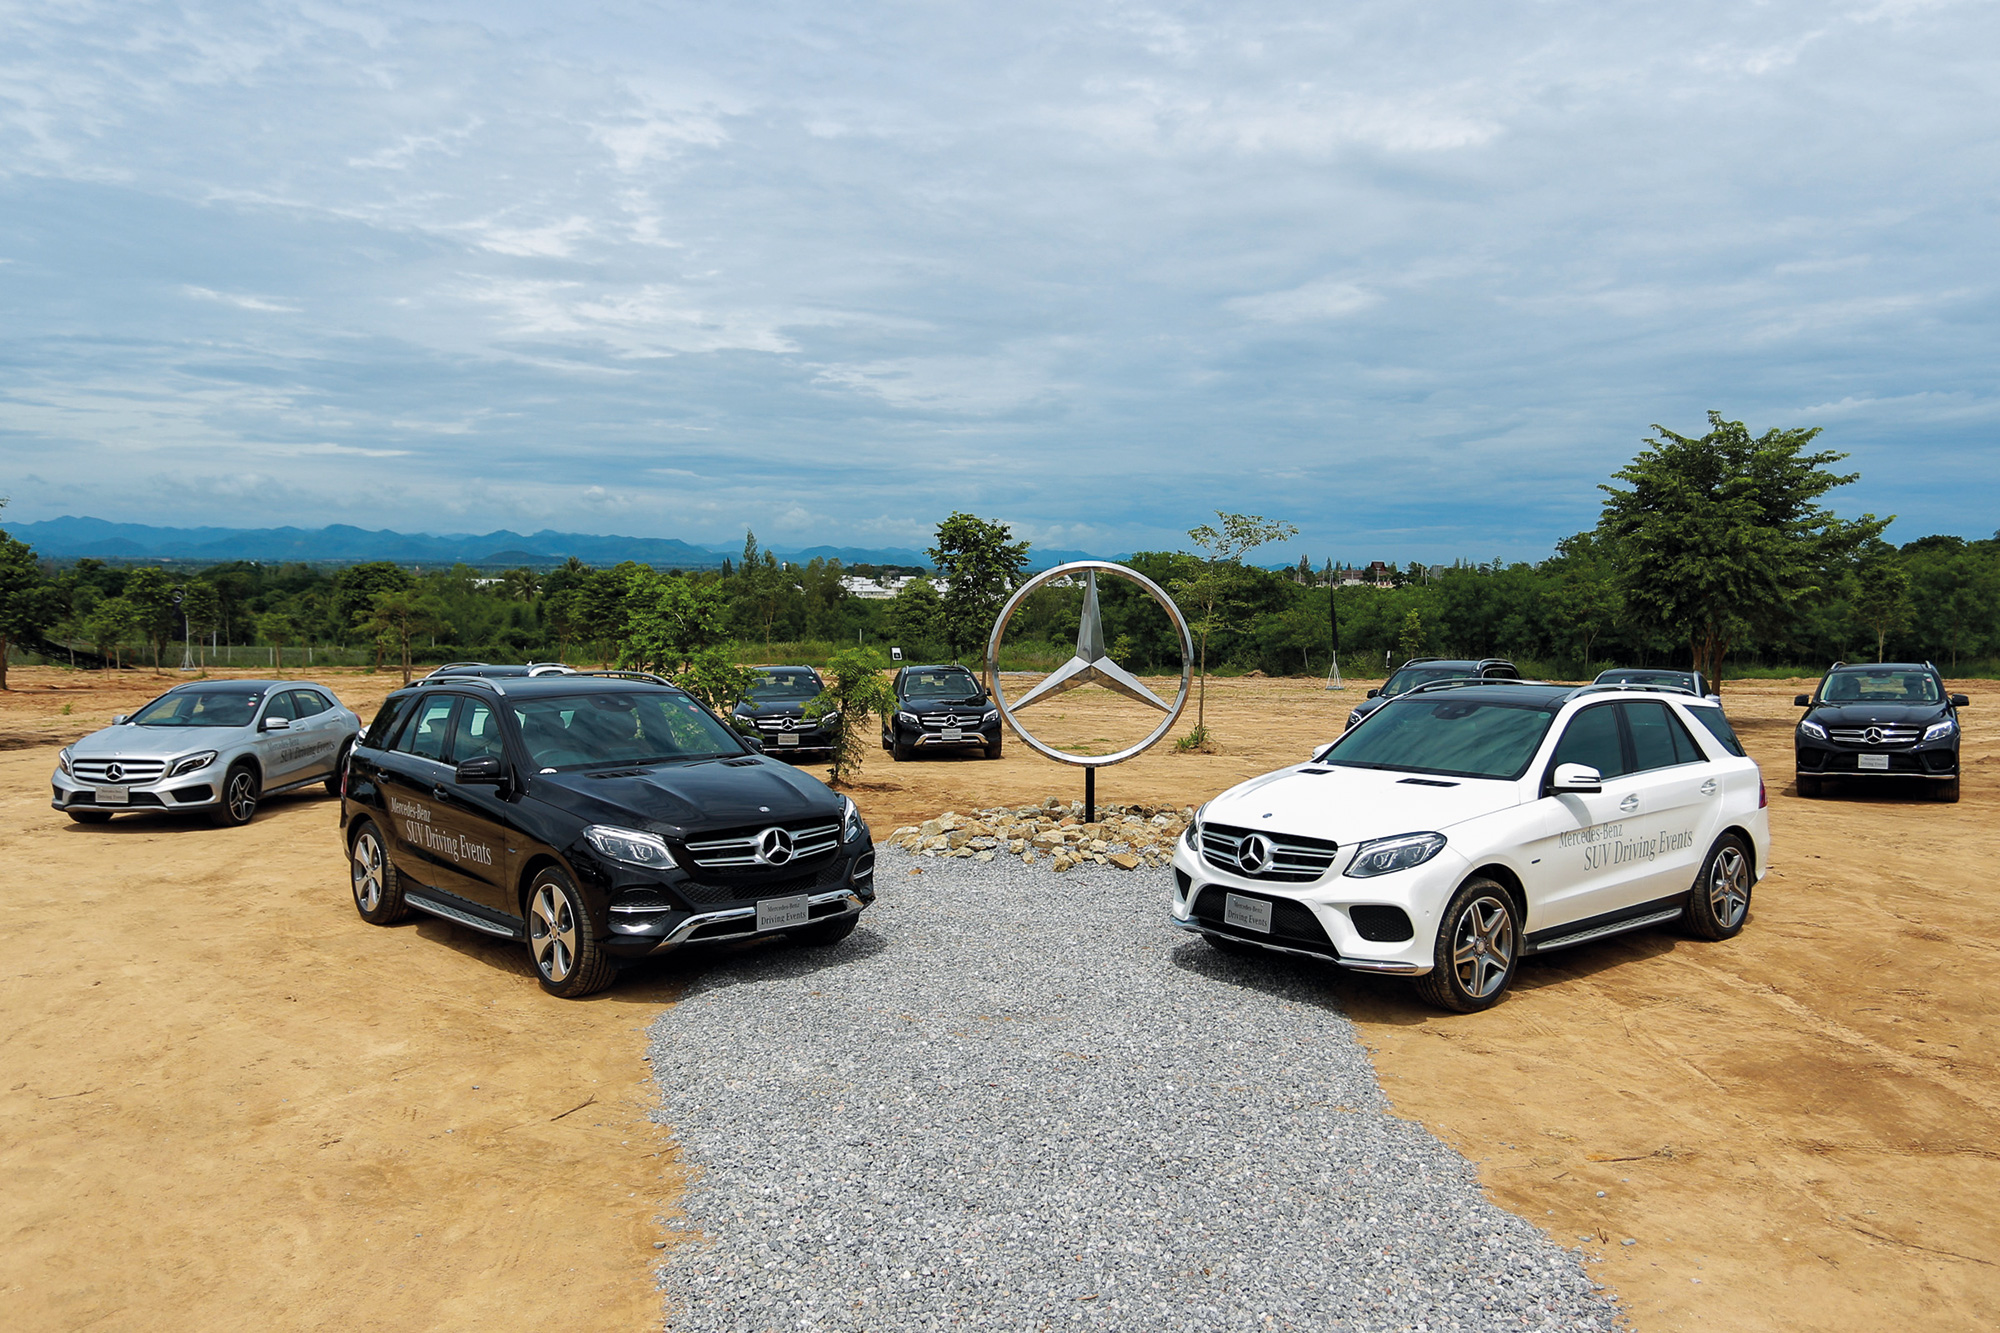pickup: (1172, 678, 1770, 1009), (352, 668, 883, 998), (1787, 652, 1964, 803)
